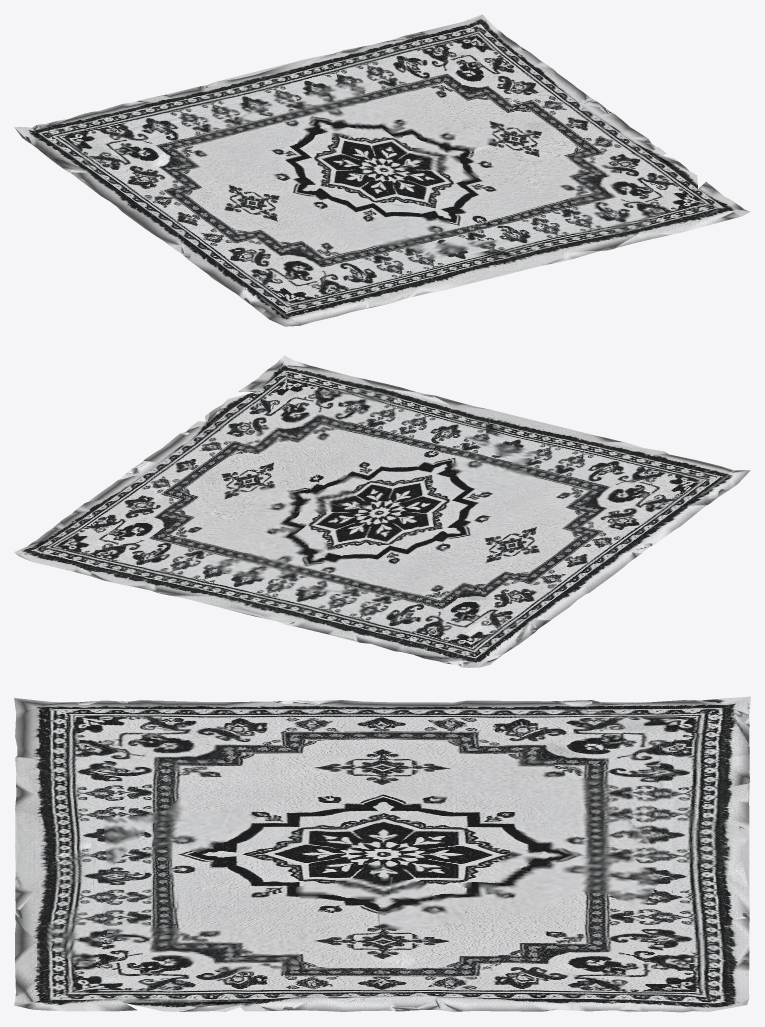
File: Tapis1.fbx
3 views of the same model, one above another, from view 1: azimuth 30°, elevation 25°; view 2: azimuth 150°, elevation 25°; view 3: azimuth 270°, elevation 25° (orthographic). The views are drawn at different scales.
Visible parts, largest first — view 1: Mesh_0; view 2: Mesh_0; view 3: Mesh_0.
Boxes of the visible parts, box(x1,y1,x2,y2) form: Mesh_0: box(14, 14, 750, 326); Mesh_0: box(14, 355, 750, 667); Mesh_0: box(14, 696, 750, 1012).
Size of the model in its own units: 190 by 1.97 by 190.
Materials: 1 (1 with a texture image).
